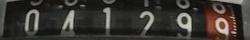digits: (94, 3, 130, 34), (138, 11, 154, 34), (24, 9, 40, 32), (175, 12, 192, 32), (61, 10, 75, 30), (214, 17, 228, 35)
